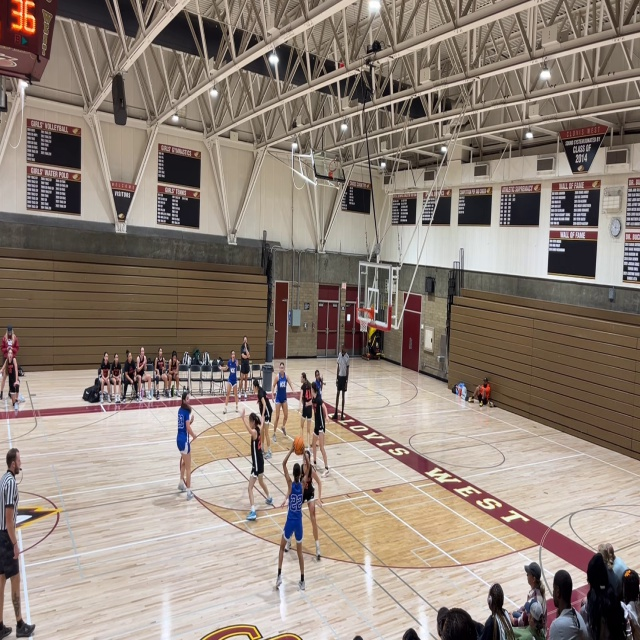Basketball: (293, 435, 305, 455)
